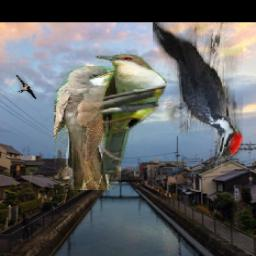Cuckoo: (94, 54, 167, 175), (55, 66, 122, 190)
Swallow: (16, 75, 37, 100)
Woodpecker: (153, 23, 243, 171)
